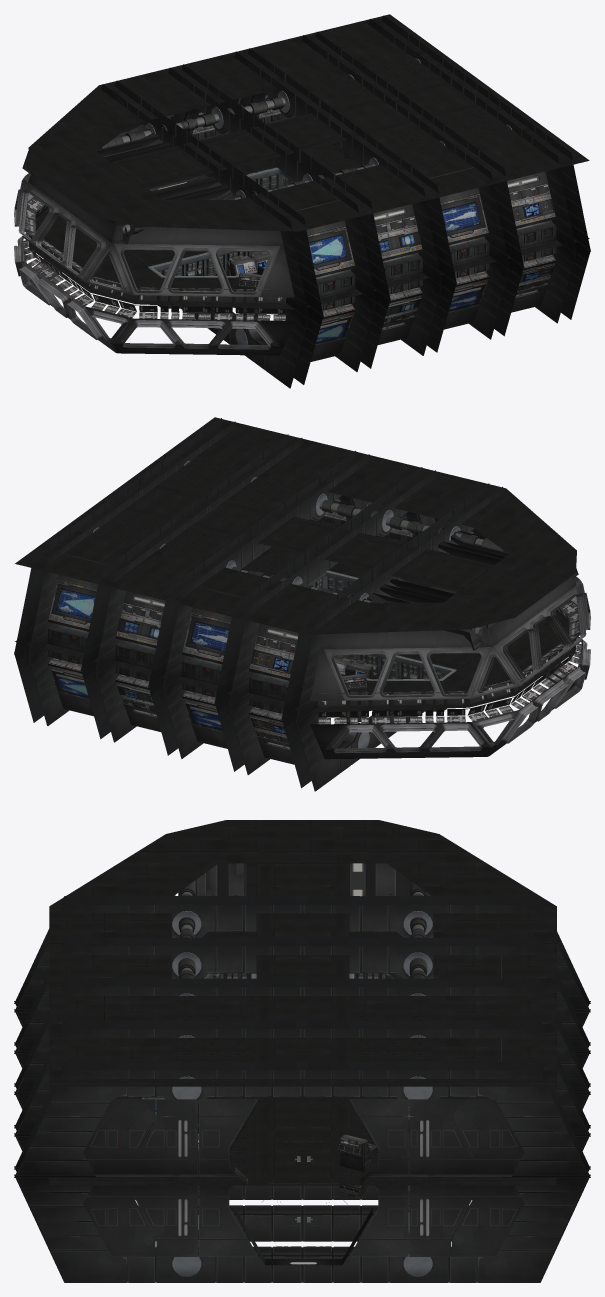
Rendered from env_fo_bridge_01_pre.glb.
3 views of the same model, one above another, from view 1: azimuth 30°, elevation 25°; view 2: azimuth 150°, elevation 25°; view 3: azimuth 270°, elevation 25° (orthographic). The views are drawn at different scales.
Parts seen in each view (by area): view 1: fo_bridge_floor_01_mesh (1), fo_window_01_mesh, fo_bridge_floor_01_mesh, fo_window_01_mesh (1), fo_pillar_01_mesh (1), fo_pillar_01_mesh (2), fo_pillar_01_mesh, fo_pillar_01_mesh (3), fo_pillar_01_mesh (4), fo_pillar_01_mesh (5), fo_console_window_mesh (1), fo_ceiling_01_mesh (+16 smaller); view 2: fo_bridge_floor_01_mesh (1), fo_window_01_mesh, fo_bridge_floor_01_mesh, fo_window_01_mesh (1), fo_pillar_01_mesh (1), fo_pillar_01_mesh (2), fo_pillar_01_mesh, fo_pillar_01_mesh (3), fo_pillar_01_mesh (4), fo_pillar_01_mesh (5), fo_console_window_mesh (1), fo_ceiling_01_mesh (+16 smaller); view 3: fo_bridge_floor_01_mesh (1), fo_pillar_01_mesh (4), fo_arch_door_01_mesh, fo_pillar_01_mesh (9), fo_arch_door_01_mesh (1), fo_bridge_floor_01_mesh, fo_pillar_01_mesh, fo_pillar_01_mesh (1), fo_pillar_01_mesh (3), fo_pillar_01_mesh (2), fo_pillar_01_mesh (8), fo_ceiling_01_mesh (+4 smaller).
Boxes of the visible parts, x1,y1,x2,y2 form: fo_bridge_floor_01_mesh (1): [28, 14, 589, 231]; fo_window_01_mesh: [14, 172, 294, 297]; fo_bridge_floor_01_mesh: [28, 143, 589, 309]; fo_window_01_mesh (1): [14, 233, 294, 355]; fo_pillar_01_mesh (1): [168, 64, 390, 303]; fo_pillar_01_mesh (2): [234, 48, 456, 287]; fo_pillar_01_mesh: [101, 81, 323, 320]; fo_pillar_01_mesh (3): [301, 32, 523, 271]; fo_pillar_01_mesh (4): [368, 15, 590, 254]; fo_pillar_01_mesh (5): [181, 302, 323, 388]; fo_console_window_mesh (1): [23, 235, 286, 322]; fo_ceiling_01_mesh: [22, 124, 241, 243]; fo_bridge_floor_01_mesh (1): [15, 417, 576, 634]; fo_window_01_mesh: [310, 576, 590, 701]; fo_bridge_floor_01_mesh: [15, 547, 576, 712]; fo_window_01_mesh (1): [309, 636, 590, 759]; fo_pillar_01_mesh (1): [214, 467, 437, 706]; fo_pillar_01_mesh (2): [148, 451, 370, 690]; fo_pillar_01_mesh: [281, 483, 504, 723]; fo_pillar_01_mesh (3): [81, 434, 303, 674]; fo_pillar_01_mesh (4): [14, 418, 236, 657]; fo_pillar_01_mesh (5): [281, 705, 423, 791]; fo_console_window_mesh (1): [318, 638, 581, 724]; fo_ceiling_01_mesh: [363, 530, 578, 650]; fo_bridge_floor_01_mesh (1): [49, 820, 556, 1086]; fo_pillar_01_mesh (4): [14, 1061, 590, 1177]; fo_arch_door_01_mesh: [83, 1098, 524, 1187]; fo_pillar_01_mesh (9): [14, 1166, 590, 1282]; fo_arch_door_01_mesh (1): [83, 1185, 524, 1265]; fo_bridge_floor_01_mesh: [49, 931, 556, 1185]; fo_pillar_01_mesh: [14, 896, 590, 1012]; fo_pillar_01_mesh (1): [14, 937, 590, 1053]; fo_pillar_01_mesh (3): [14, 1020, 590, 1136]; fo_pillar_01_mesh (2): [14, 978, 590, 1094]; fo_pillar_01_mesh (8): [14, 1125, 590, 1241]; fo_ceiling_01_mesh: [195, 863, 430, 896].
Size of the model in its own units: 39.51 by 13.89 by 34.18.
Materials: 15 (15 with a texture image).
